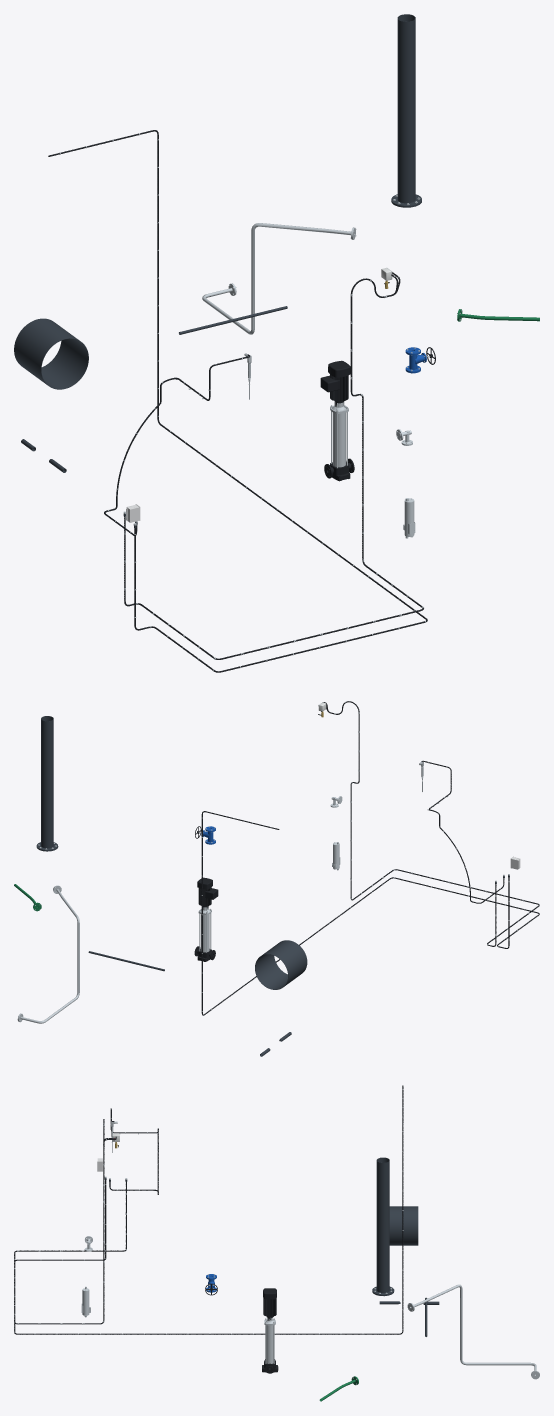
Rendered from s4000-4-BagD6_Z7.glb.
3 views of the same model, one above another, from view 1: azimuth 30°, elevation 25°; view 2: azimuth 150°, elevation 25°; view 3: azimuth 270°, elevation 25° (orthographic). The views are drawn at different scales.
Visible parts, largest first — view 1: bdv_vent / dark, flue_spacer / dark, mod_direct_drive_cable / black, wiring_pressure_switch_3 / black, trap_gap_to_bdv / steel, wiring_pressure_transmitter / black, pump_2 CAD solid 15; view 2: bdv_vent / dark, flue_spacer / dark, mod_direct_drive_cable / black, wiring_pressure_switch_3 / black, trap_gap_to_bdv / steel, wiring_pressure_transmitter / black, pump_2 CAD solid 15; view 3: bdv_vent / dark, mod_direct_drive_cable / black, flue_spacer / dark, trap_gap_to_bdv / steel, wiring_pressure_switch_3 / black, wiring_pressure_transmitter / black, pump_2 CAD solid 15.
Boxes of the visible parts, x1,y1,x2,y2 form: bdv_vent / dark: [391, 14, 421, 207]; flue_spacer / dark: [14, 318, 88, 389]; mod_direct_drive_cable / black: [48, 130, 427, 672]; wiring_pressure_switch_3 / black: [124, 272, 423, 659]; trap_gap_to_bdv / steel: [202, 223, 356, 334]; wiring_pressure_transmitter / black: [124, 274, 423, 659]; pump_2 CAD solid 15: [320, 360, 350, 402]; bdv_vent / dark: [36, 716, 58, 851]; flue_spacer / dark: [255, 940, 307, 989]; mod_direct_drive_cable / black: [201, 811, 539, 1015]; wiring_pressure_switch_3 / black: [318, 701, 538, 946]; trap_gap_to_bdv / steel: [17, 885, 79, 1023]; wiring_pressure_transmitter / black: [324, 701, 539, 946]; pump_2 CAD solid 15: [197, 877, 218, 906]; bdv_vent / dark: [372, 1157, 394, 1296]; mod_direct_drive_cable / black: [14, 1085, 403, 1334]; flue_spacer / dark: [389, 1206, 418, 1245]; trap_gap_to_bdv / steel: [407, 1284, 539, 1379]; wiring_pressure_switch_3 / black: [14, 1119, 126, 1324]; wiring_pressure_transmitter / black: [14, 1119, 126, 1323]; pump_2 CAD solid 15: [263, 1288, 276, 1317].
Size of the model in its own units: 6.01 by 3.75 by 6.74.
